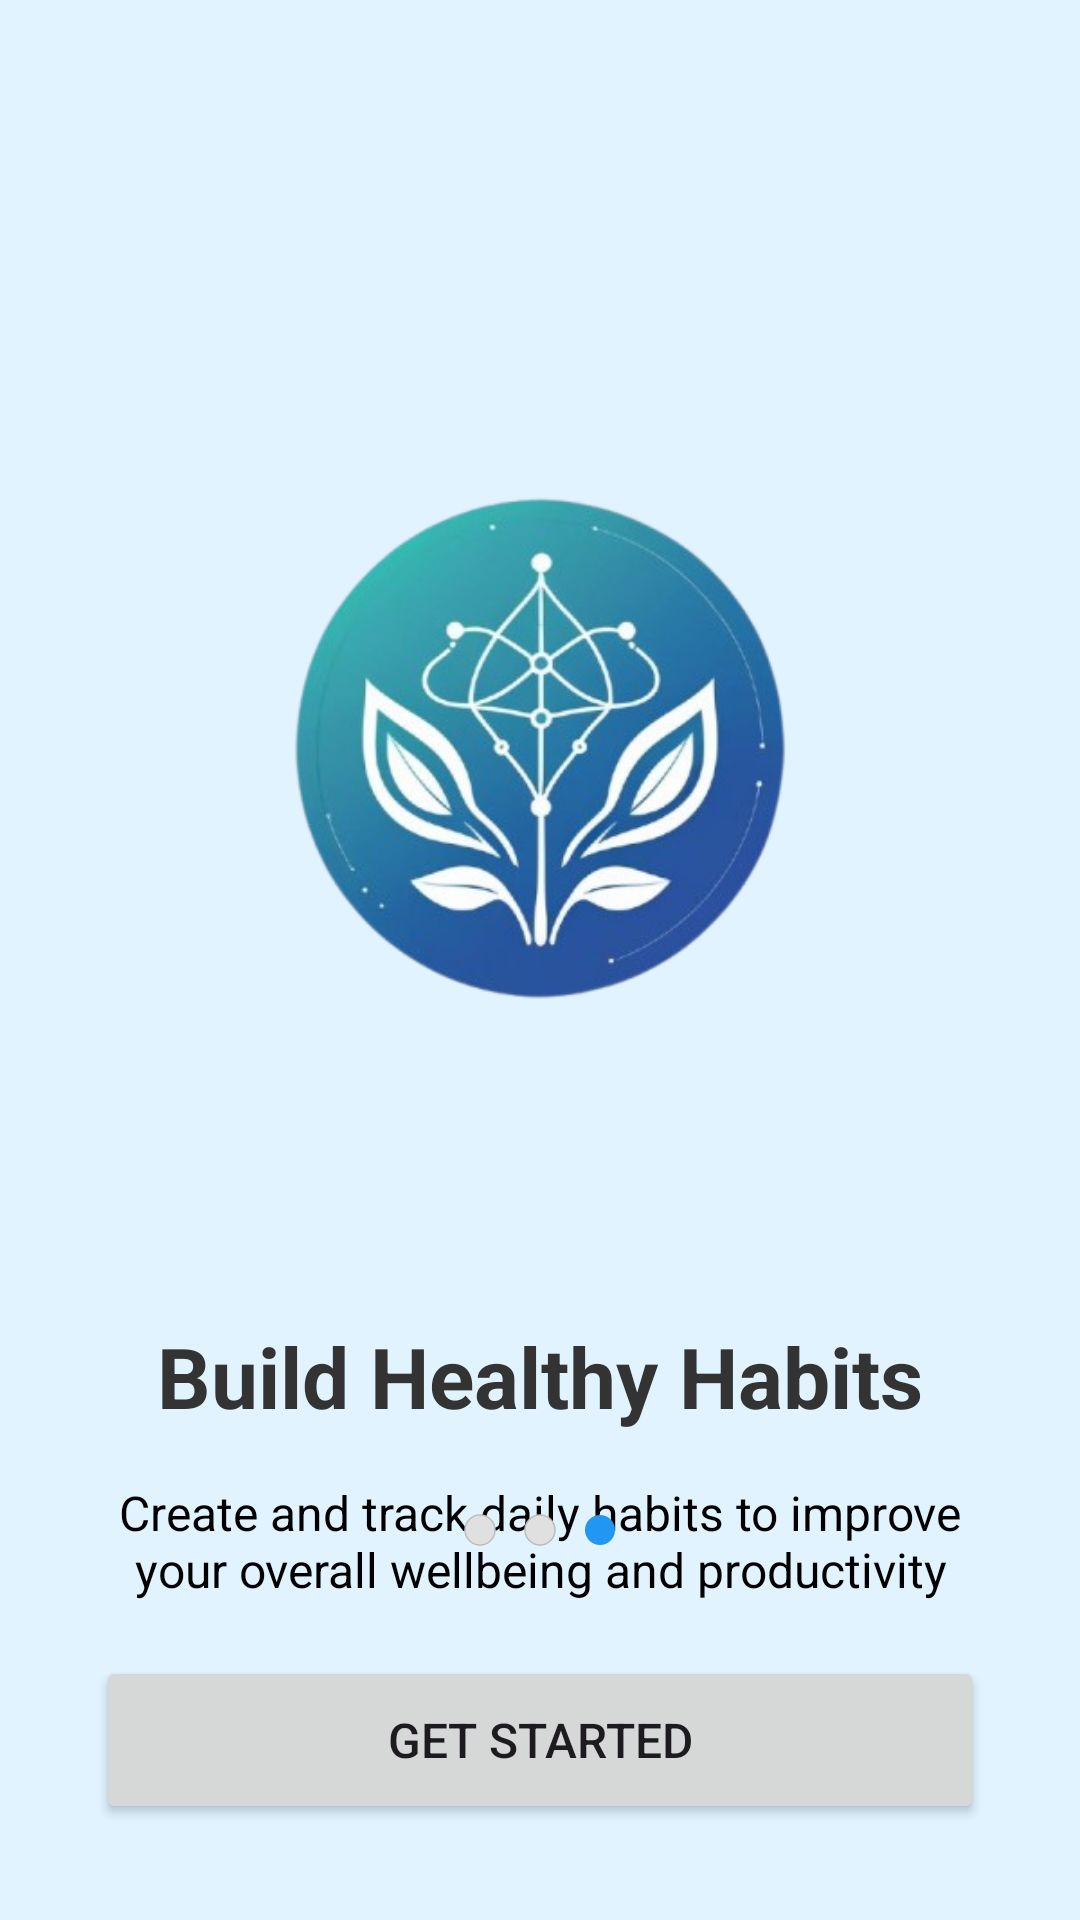

Icons on this 1080px x 1920px Android screen, each with its box as box(x1, y1, x2, y2):
indicator: box(462, 1512, 498, 1546), box(522, 1512, 556, 1546), box(585, 1512, 616, 1545)
